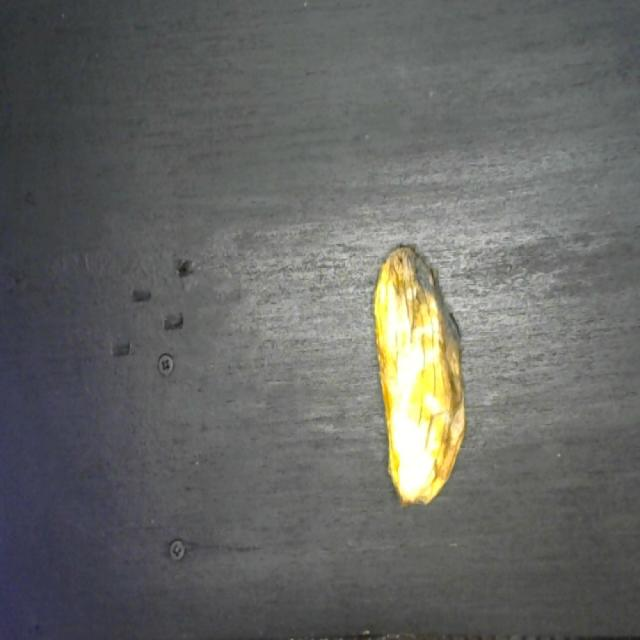biodegradable: (372, 232, 472, 514)
